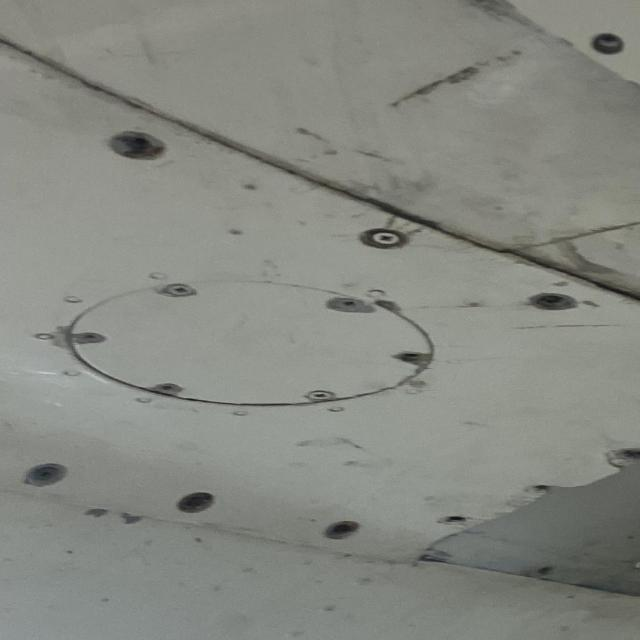Missing-head: (105, 130, 161, 160), (524, 291, 575, 311), (172, 492, 211, 515), (588, 30, 622, 55), (320, 521, 357, 541), (437, 515, 465, 526)
Paint-off: (117, 513, 138, 525), (81, 508, 105, 518)
